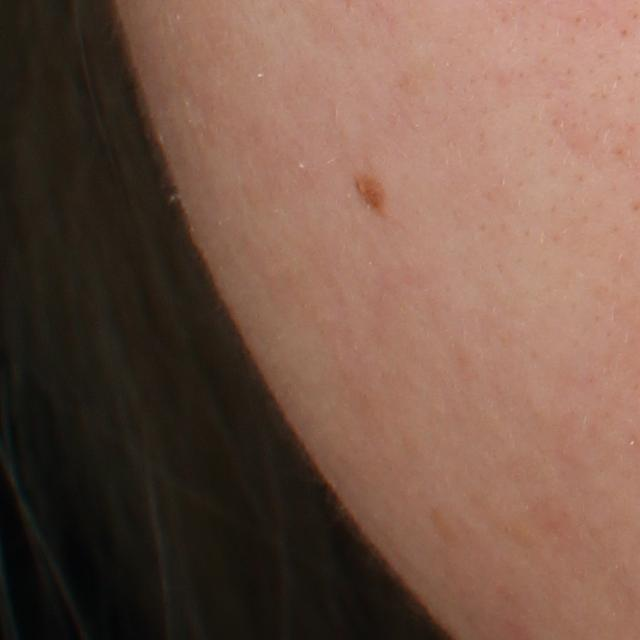nevus: (353, 172, 388, 217)
